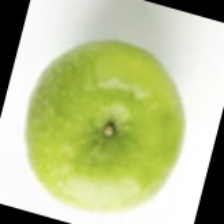apple: (0, 17, 197, 182)
